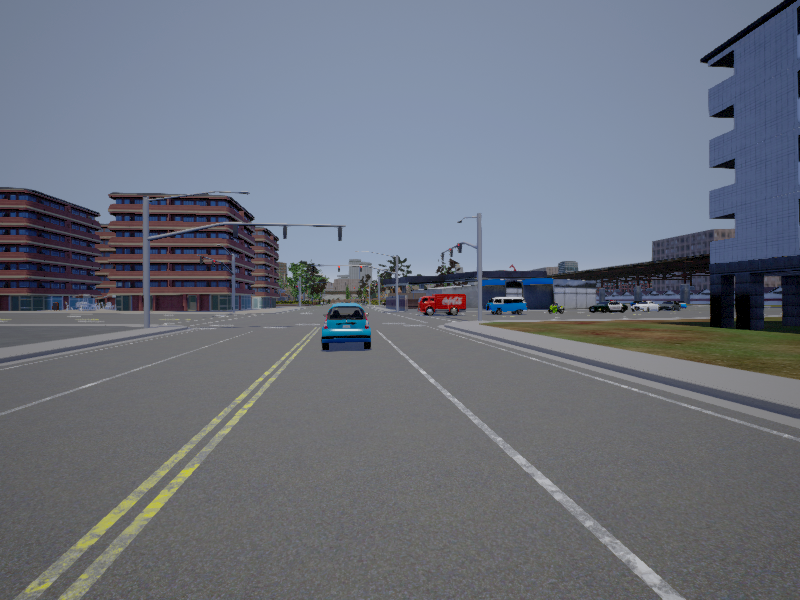Benign: (322, 305, 372, 352), (419, 294, 465, 318), (487, 298, 526, 316), (590, 301, 627, 314), (631, 301, 660, 315), (660, 299, 679, 312)
